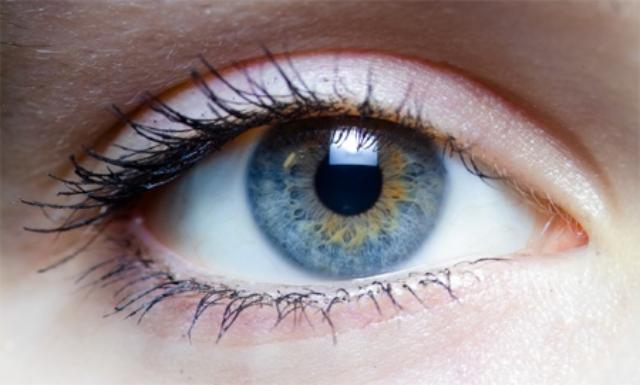eye: (247, 113, 447, 281)
